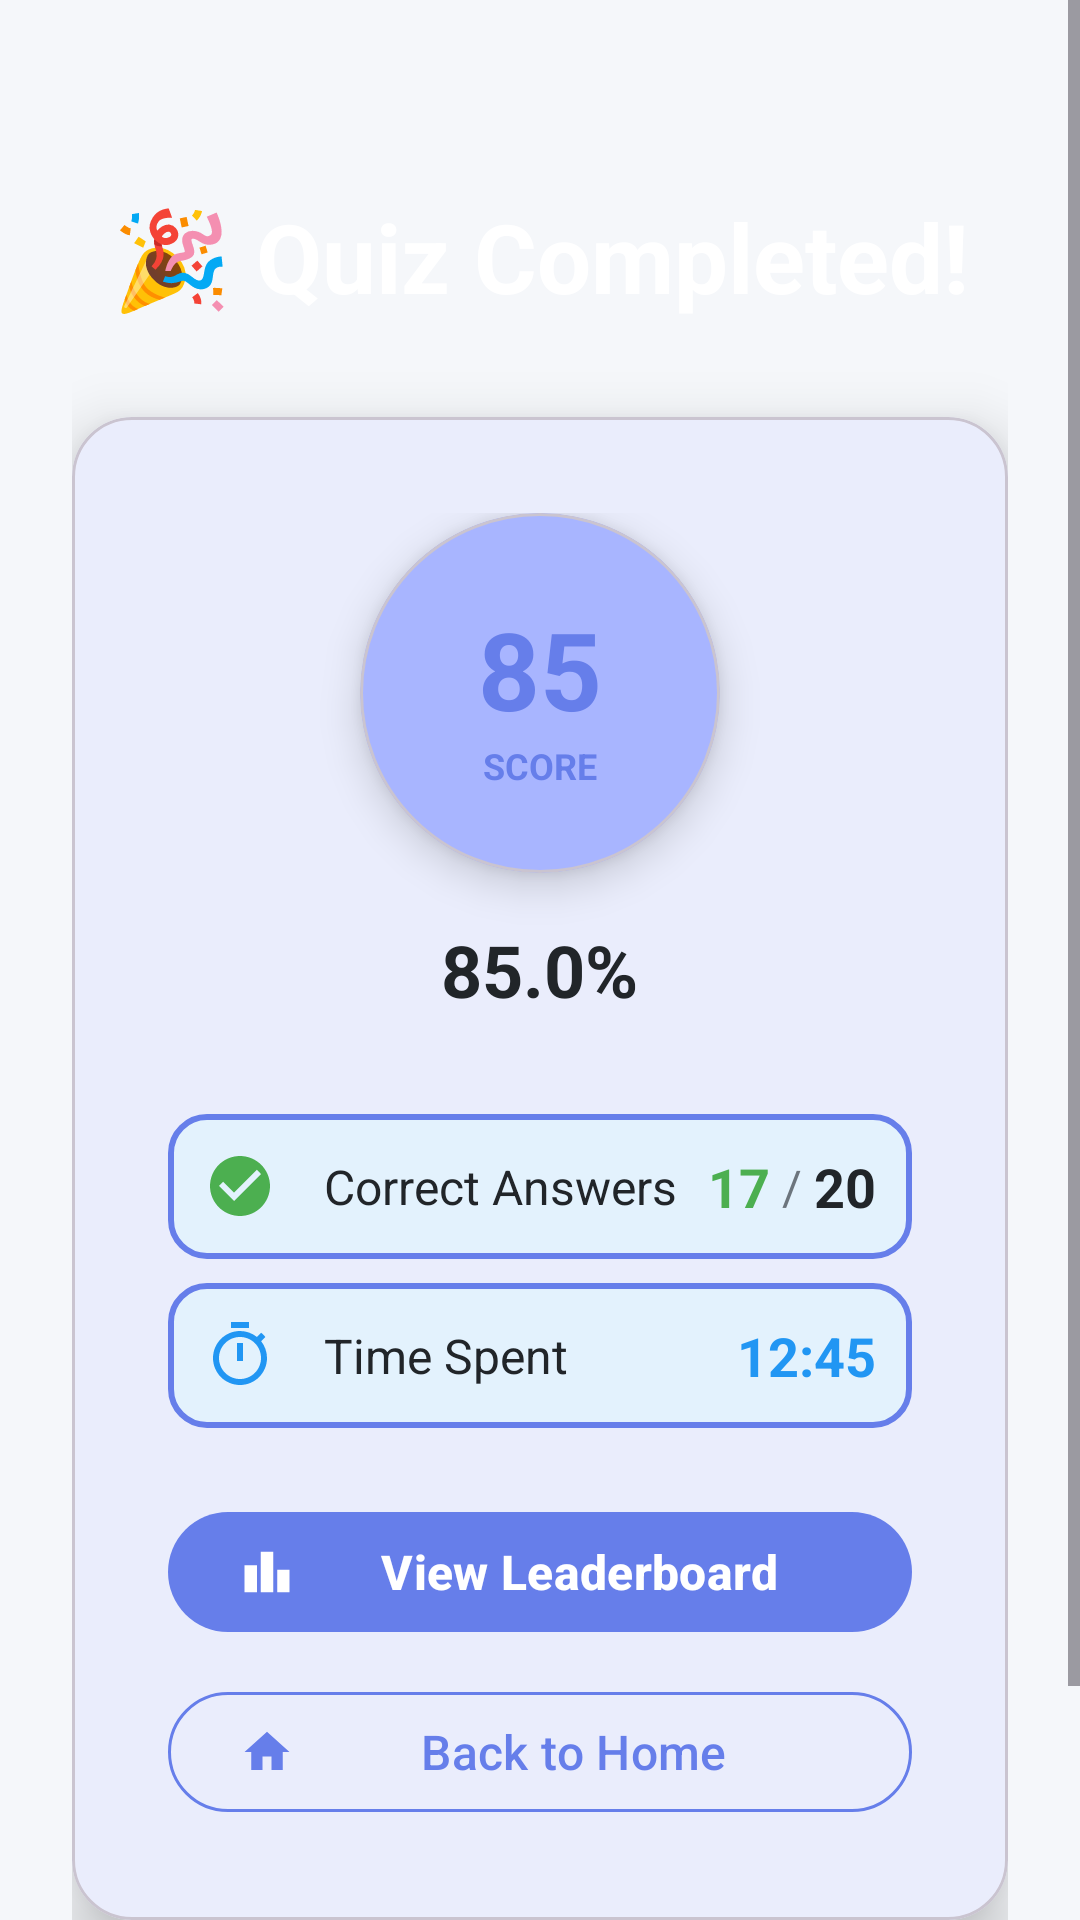

Screen size 1080×1920. Icon name, then its center in pixels as point (x, y):
check circle: point (240, 1186)
timer: point (240, 1353)
